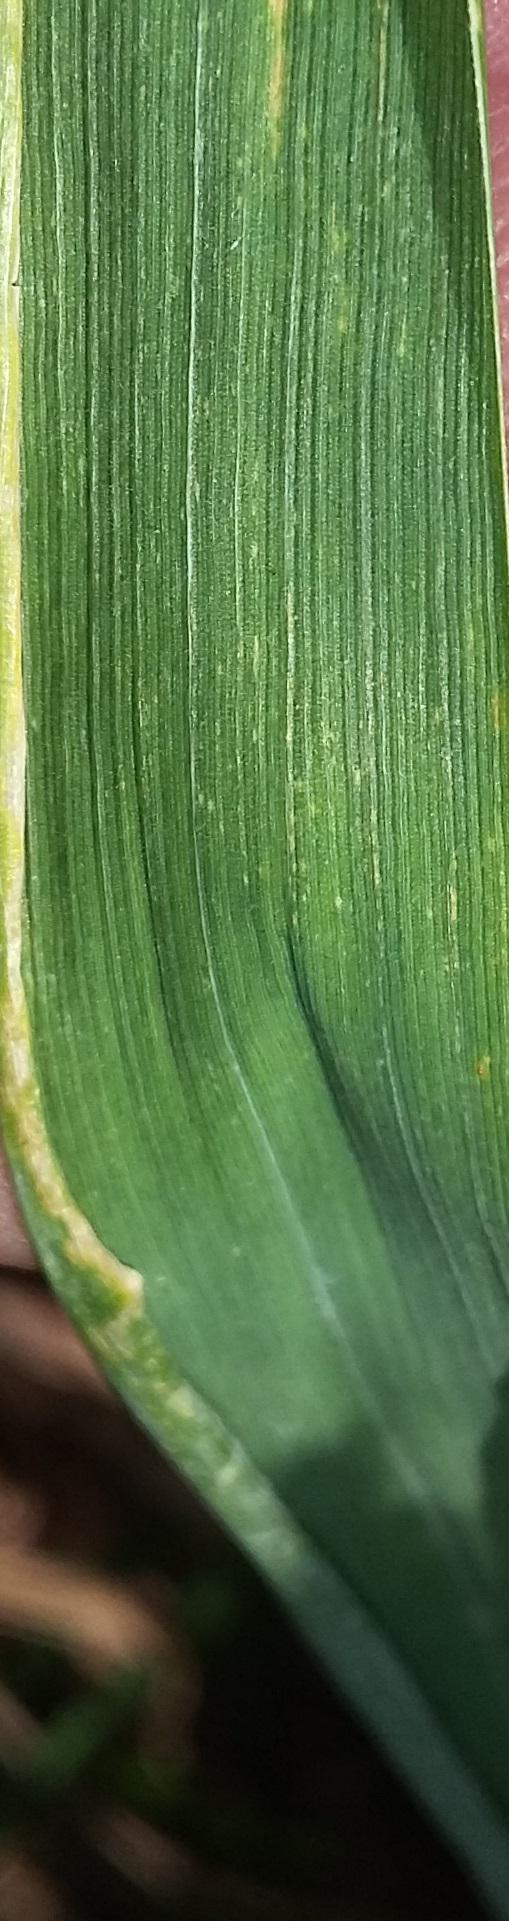Wheat: (36, 0, 461, 919), (16, 946, 509, 1446)
